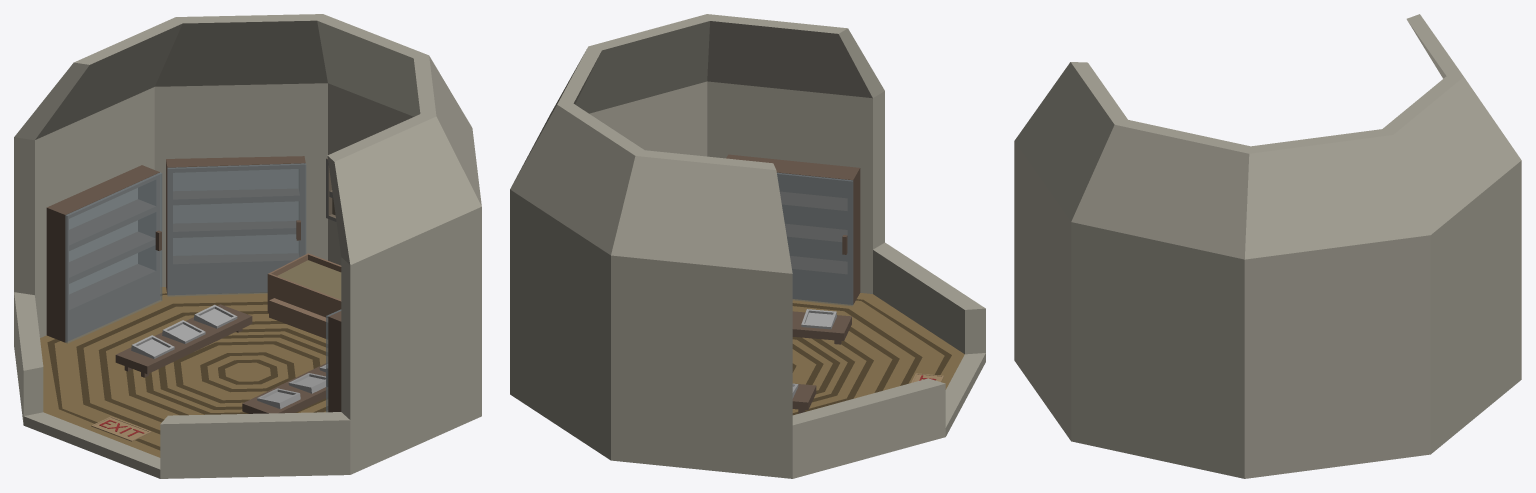
The model's file is TINDAHAN.fbx.
3 renders of one model, left to right at view 1: azimuth 30°, elevation 25°; view 2: azimuth 150°, elevation 25°; view 3: azimuth 270°, elevation 25°, orthographic. The views are drawn at different scales.
Parts seen in each view (by area): view 1: pCube22, pCube10 (×2), pCube9 (×3), pCube17, pCube5 (×2), pCube16 (×2), pCube14 (×2), pCube21, pCube15; view 2: pCube22, pCube9, pCube10, pCube5 (×2), pCube16; view 3: pCube22.
Part boxes in pixels (left/top/right/bottom): pCube22: left=14, top=14, right=481, bottom=478; pCube10 (×2): left=65, top=163, right=306, bottom=343; pCube9 (×3): left=46, top=156, right=341, bottom=412; pCube17: left=267, top=253, right=341, bottom=339; pCube5 (×2): left=115, top=304, right=327, bottom=413; pCube16 (×2): left=194, top=304, right=300, bottom=409; pCube14 (×2): left=162, top=320, right=325, bottom=393; pCube21: left=91, top=416, right=151, bottom=441; pCube15: left=131, top=335, right=174, bottom=358; pCube22: left=510, top=14, right=985, bottom=478; pCube9: left=726, top=154, right=860, bottom=304; pCube10: left=777, top=172, right=853, bottom=305; pCube5 (×2): left=792, top=311, right=851, bottom=413; pCube16: left=801, top=309, right=836, bottom=329; pCube22: left=1014, top=14, right=1521, bottom=478.
Size of the model in its own units: 40.95 by 26.66 by 40.31.
